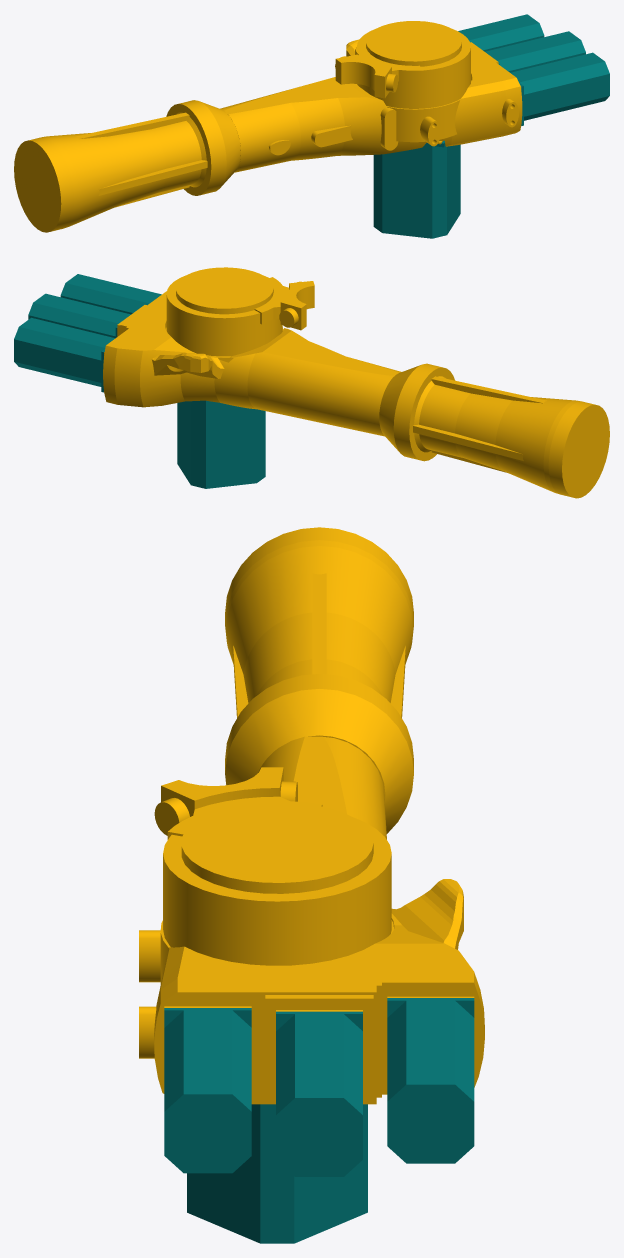
3 renders of one model, top to bottom at view 1: azimuth 30°, elevation 25°; view 2: azimuth 150°, elevation 25°; view 3: azimuth 270°, elevation 25°, orthographic. The views are drawn at different scales.
Parts seen in each view (by area): view 1: KR16-AV300.sldasm-Part-7-1, KR16-AV300.sldasm-Part-4-1-1, KR16-AV300.sldasm-Part-5-1-1, KR16-AV300.sldasm-Part-5-1-2, KR16-AV300.sldasm-Part-5-1-3; view 2: KR16-AV300.sldasm-Part-7-1, KR16-AV300.sldasm-Part-4-1-1, KR16-AV300.sldasm-Part-5-1-3, KR16-AV300.sldasm-Part-5-1-2, KR16-AV300.sldasm-Part-5-1-1; view 3: KR16-AV300.sldasm-Part-7-1, KR16-AV300.sldasm-Part-5-1-3, KR16-AV300.sldasm-Part-5-1-1, KR16-AV300.sldasm-Part-5-1-2, KR16-AV300.sldasm-Part-4-1-1.
Part boxes in pixels (<box>): KR16-AV300.sldasm-Part-7-1: <box>14,21,522,232</box>; KR16-AV300.sldasm-Part-4-1-1: <box>373,140,460,238</box>; KR16-AV300.sldasm-Part-5-1-1: <box>510,52,609,125</box>; KR16-AV300.sldasm-Part-5-1-2: <box>485,31,585,72</box>; KR16-AV300.sldasm-Part-5-1-3: <box>458,14,544,51</box>; KR16-AV300.sldasm-Part-7-1: <box>103,267,609,498</box>; KR16-AV300.sldasm-Part-4-1-1: <box>177,400,265,488</box>; KR16-AV300.sldasm-Part-5-1-3: <box>14,317,114,392</box>; KR16-AV300.sldasm-Part-5-1-2: <box>28,293,130,338</box>; KR16-AV300.sldasm-Part-5-1-1: <box>60,274,161,314</box>; KR16-AV300.sldasm-Part-7-1: <box>139,527,484,1104</box>; KR16-AV300.sldasm-Part-5-1-3: <box>387,998,474,1163</box>; KR16-AV300.sldasm-Part-5-1-1: <box>164,1008,251,1173</box>; KR16-AV300.sldasm-Part-5-1-2: <box>276,1011,362,1176</box>; KR16-AV300.sldasm-Part-4-1-1: <box>187,1104,367,1243</box>.
Bounding box in the file's own units: 1.03 × 0.33 × 0.2875.
